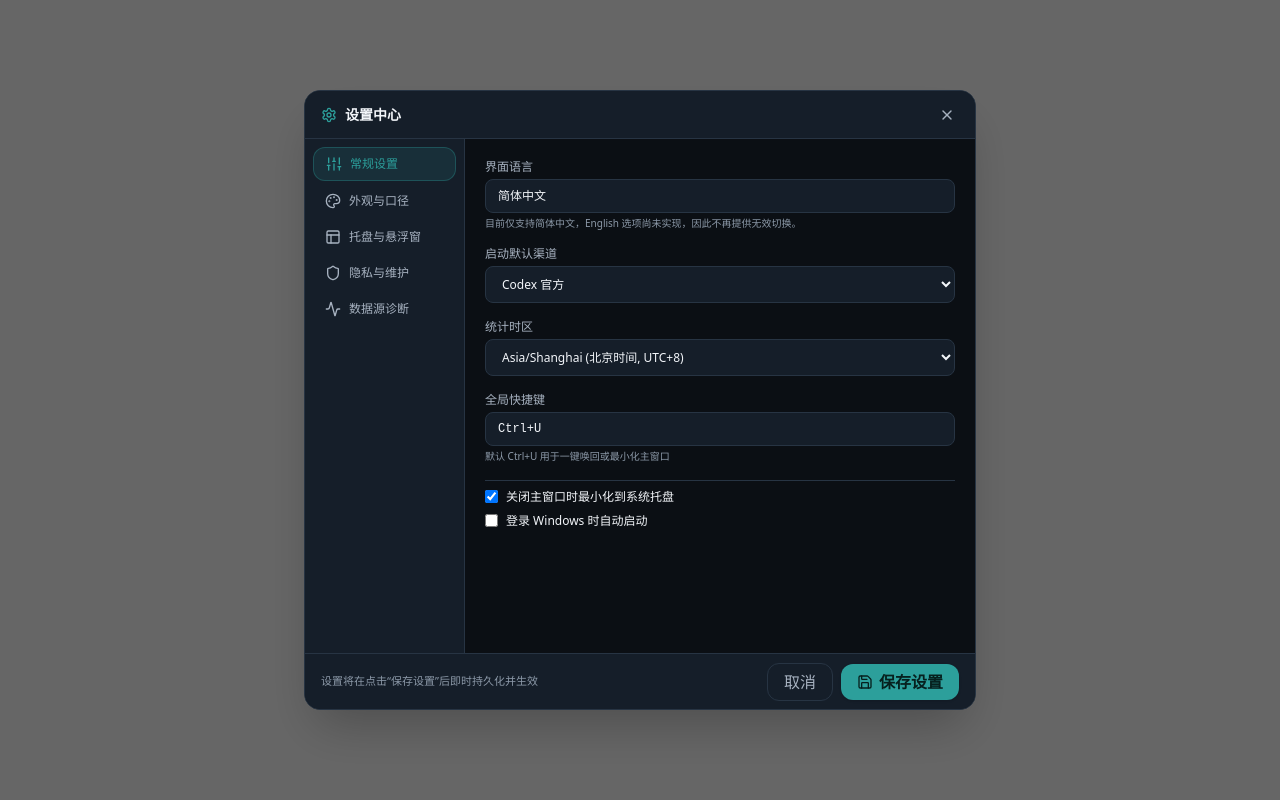
SettingsModal save & widget-apply flow › reports an overall failure when the settings persistence itself fails
Step 1. Click the button "保存设置" → [900, 682], box left=841, top=664, right=959, bottom=700
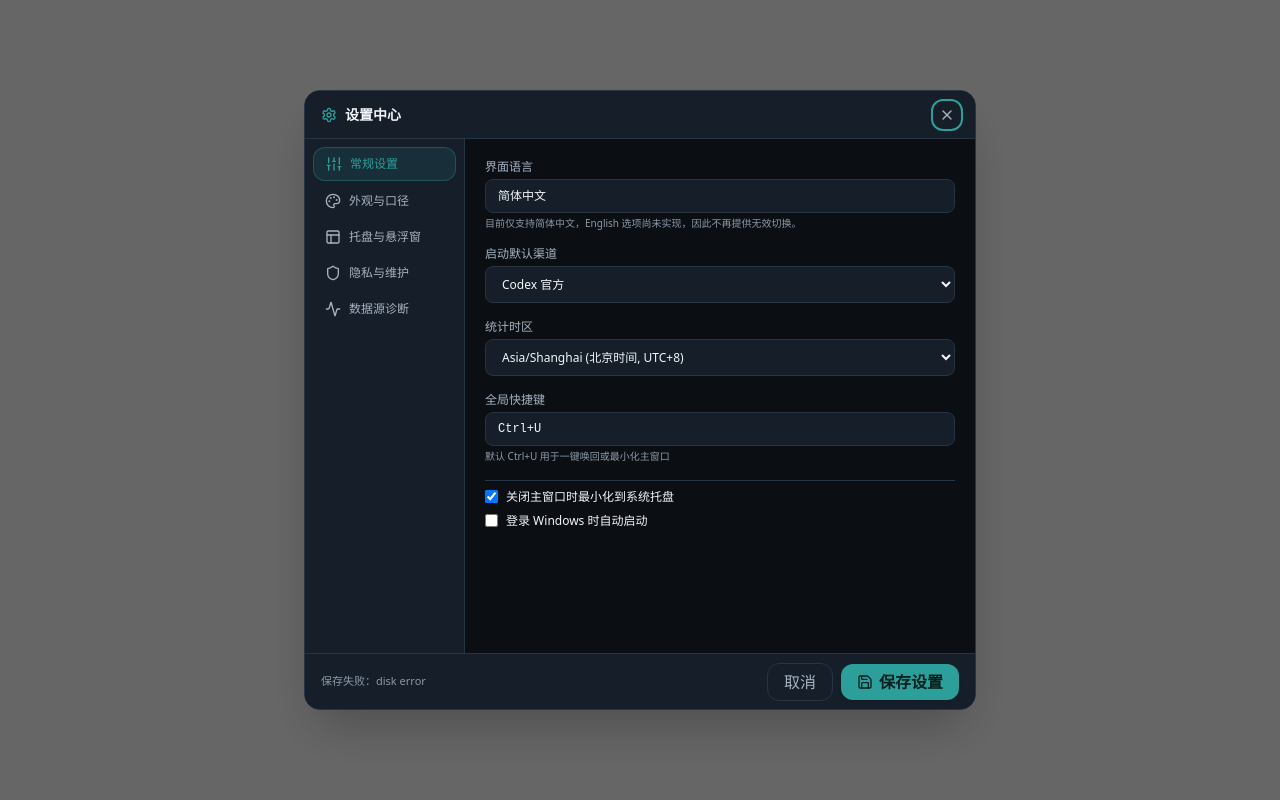
Now the message shows "保存失败", box left=321, top=673, right=426, bottom=688
